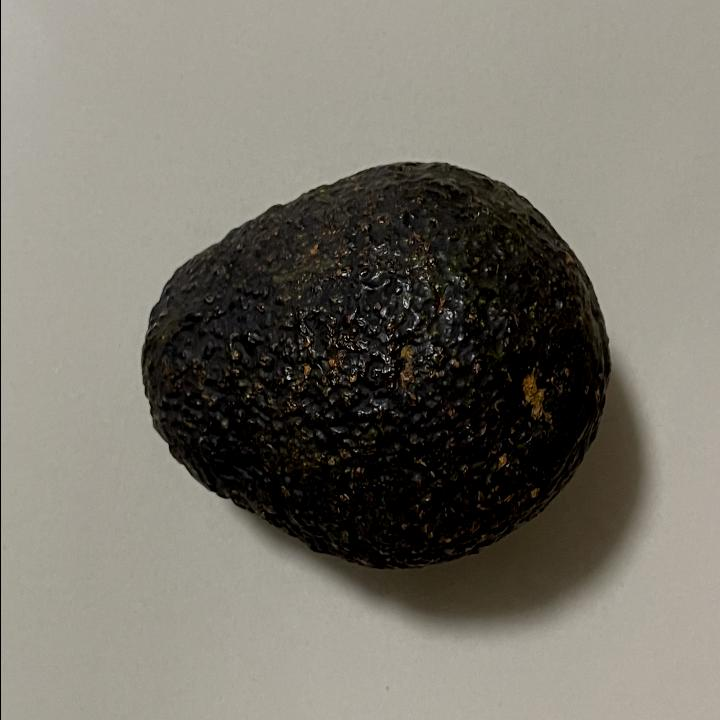Level2: (133, 154, 614, 580)
